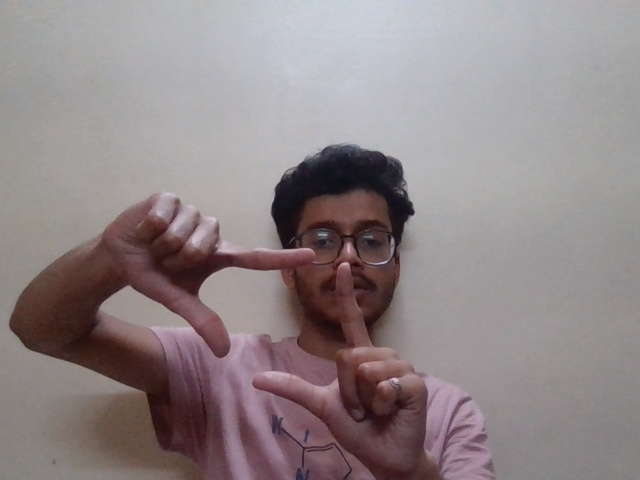video: (93, 183, 439, 447)
